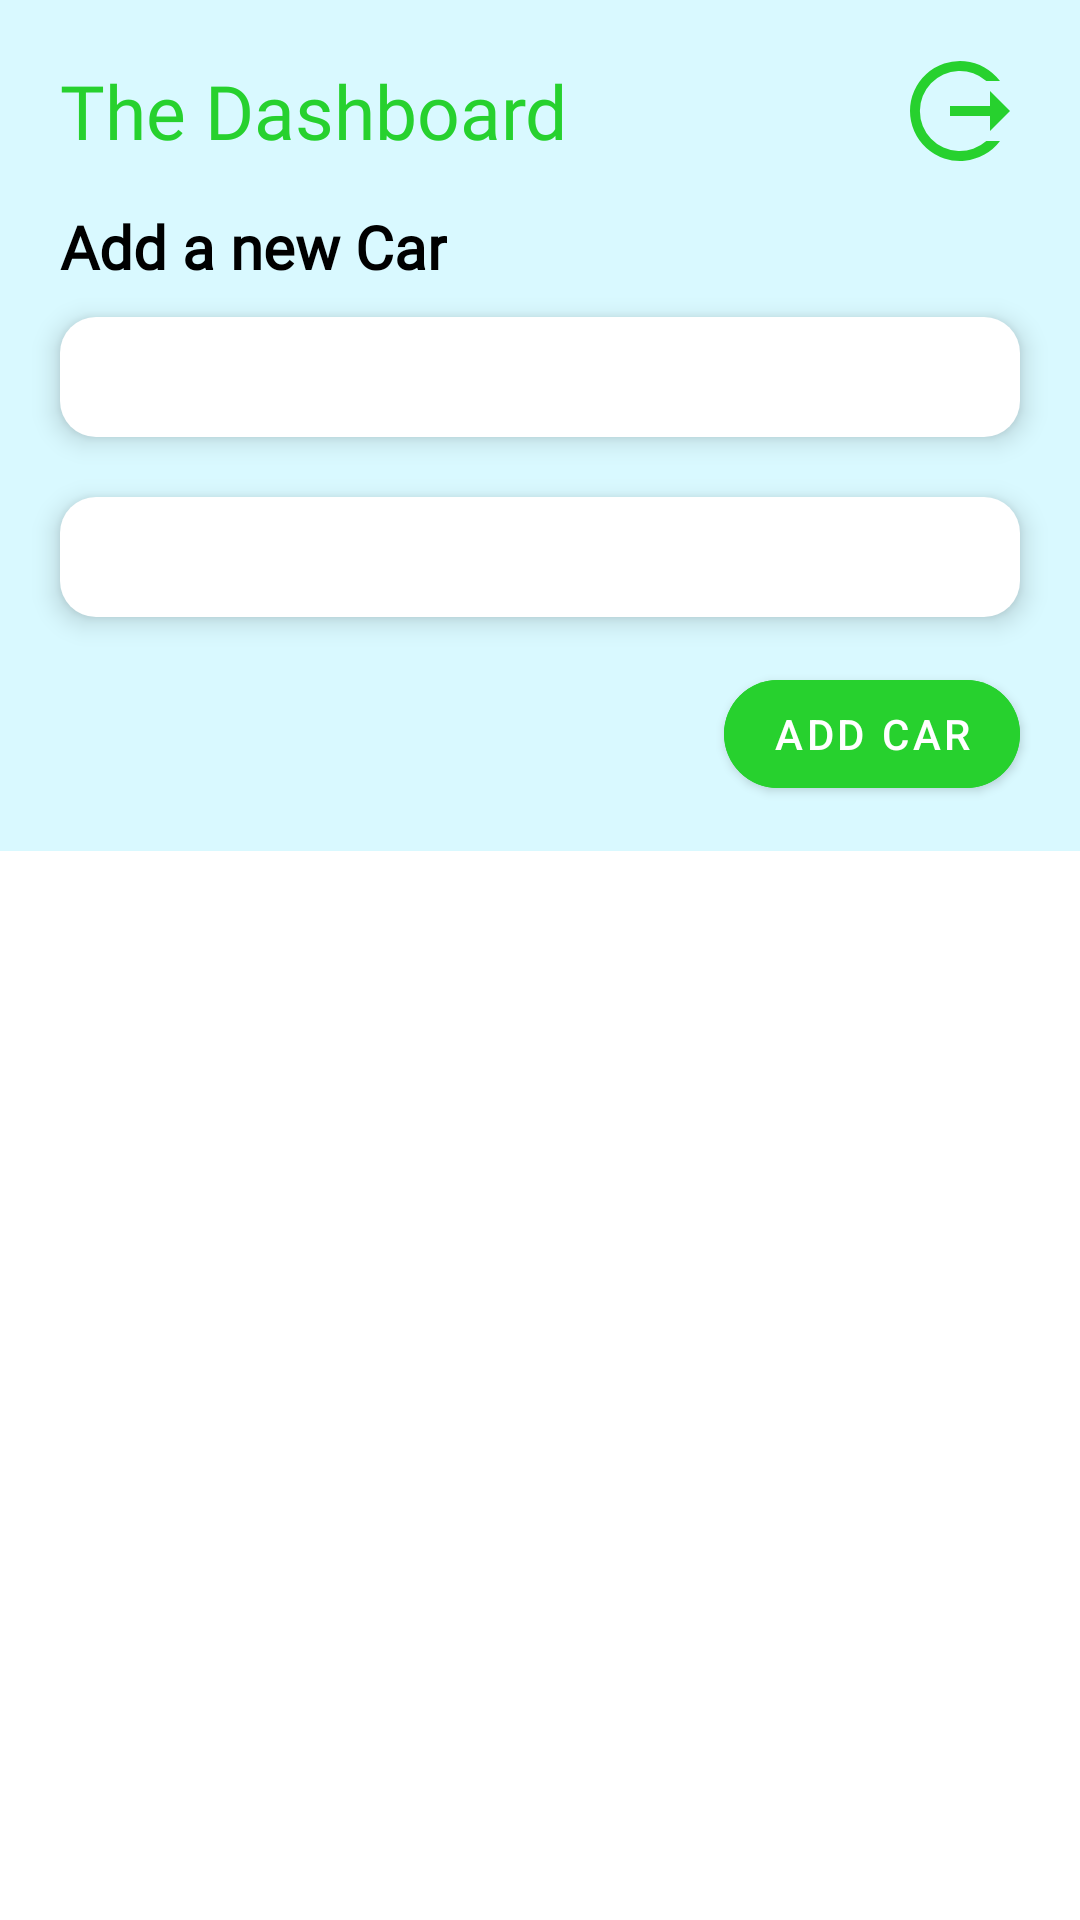

Icon click points for this 1080×1920 phone screenshot, format point (x, y):
location exit: point (960, 111)
